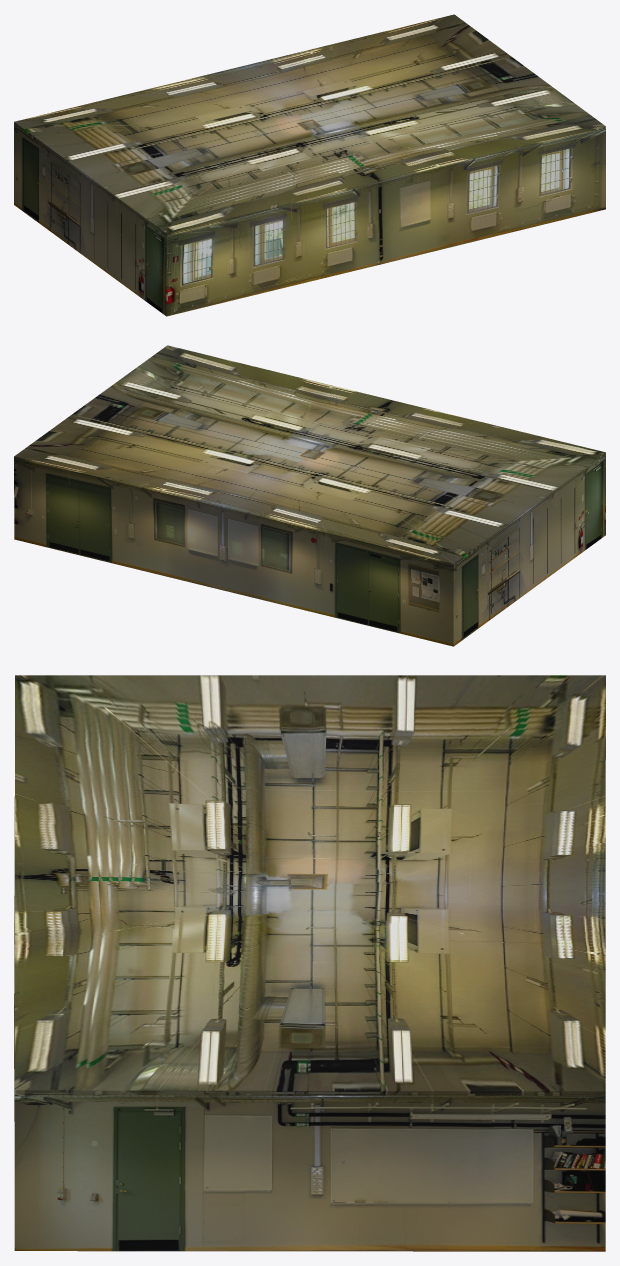
File: Room165.FBX
The picture shows the model from 3 angles, top to bottom: view 1: azimuth 30°, elevation 25°; view 2: azimuth 150°, elevation 25°; view 3: azimuth 270°, elevation 25°; orthographic projection. The views are drawn at different scales.
Visible parts, largest first — view 1: Room165; view 2: Room165; view 3: Room165.
Boxes of the visible parts, box(x1,y1,x2,y2) form: Room165: box(14, 14, 605, 316); Room165: box(14, 345, 605, 646); Room165: box(14, 675, 605, 1251).
Bounding box in the file's own units: 14.84 × 2.67 × 8.92.
3 materials, 3 textured.
